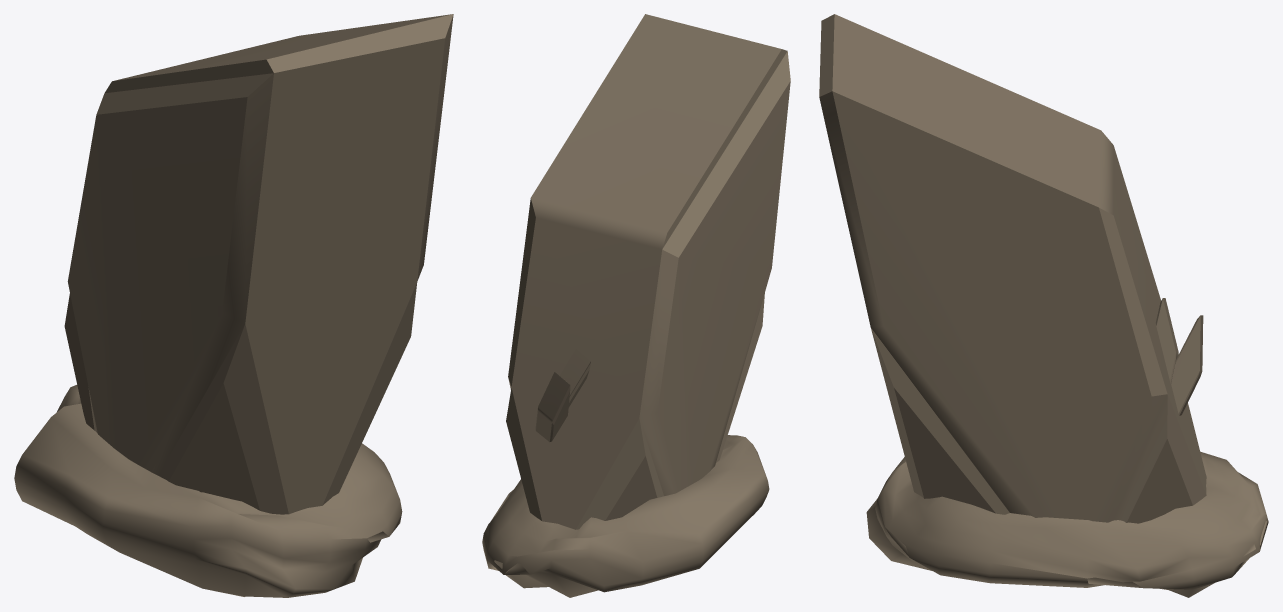
Rendered from Lithiumsortof.fbx.
3 renders of one model, left to right at view 1: azimuth 30°, elevation 25°; view 2: azimuth 150°, elevation 25°; view 3: azimuth 270°, elevation 25°, orthographic. The views are drawn at different scales.
Visible parts, largest first — view 1: pCube42; view 2: pCube42; view 3: pCube42.
Part boxes in pixels (bbox=[...]): pCube42: bbox=[14, 14, 453, 597]; pCube42: bbox=[482, 14, 790, 597]; pCube42: bbox=[819, 14, 1268, 597].
Size of the model in its own units: 0.5069 by 0.9654 by 0.7591.
